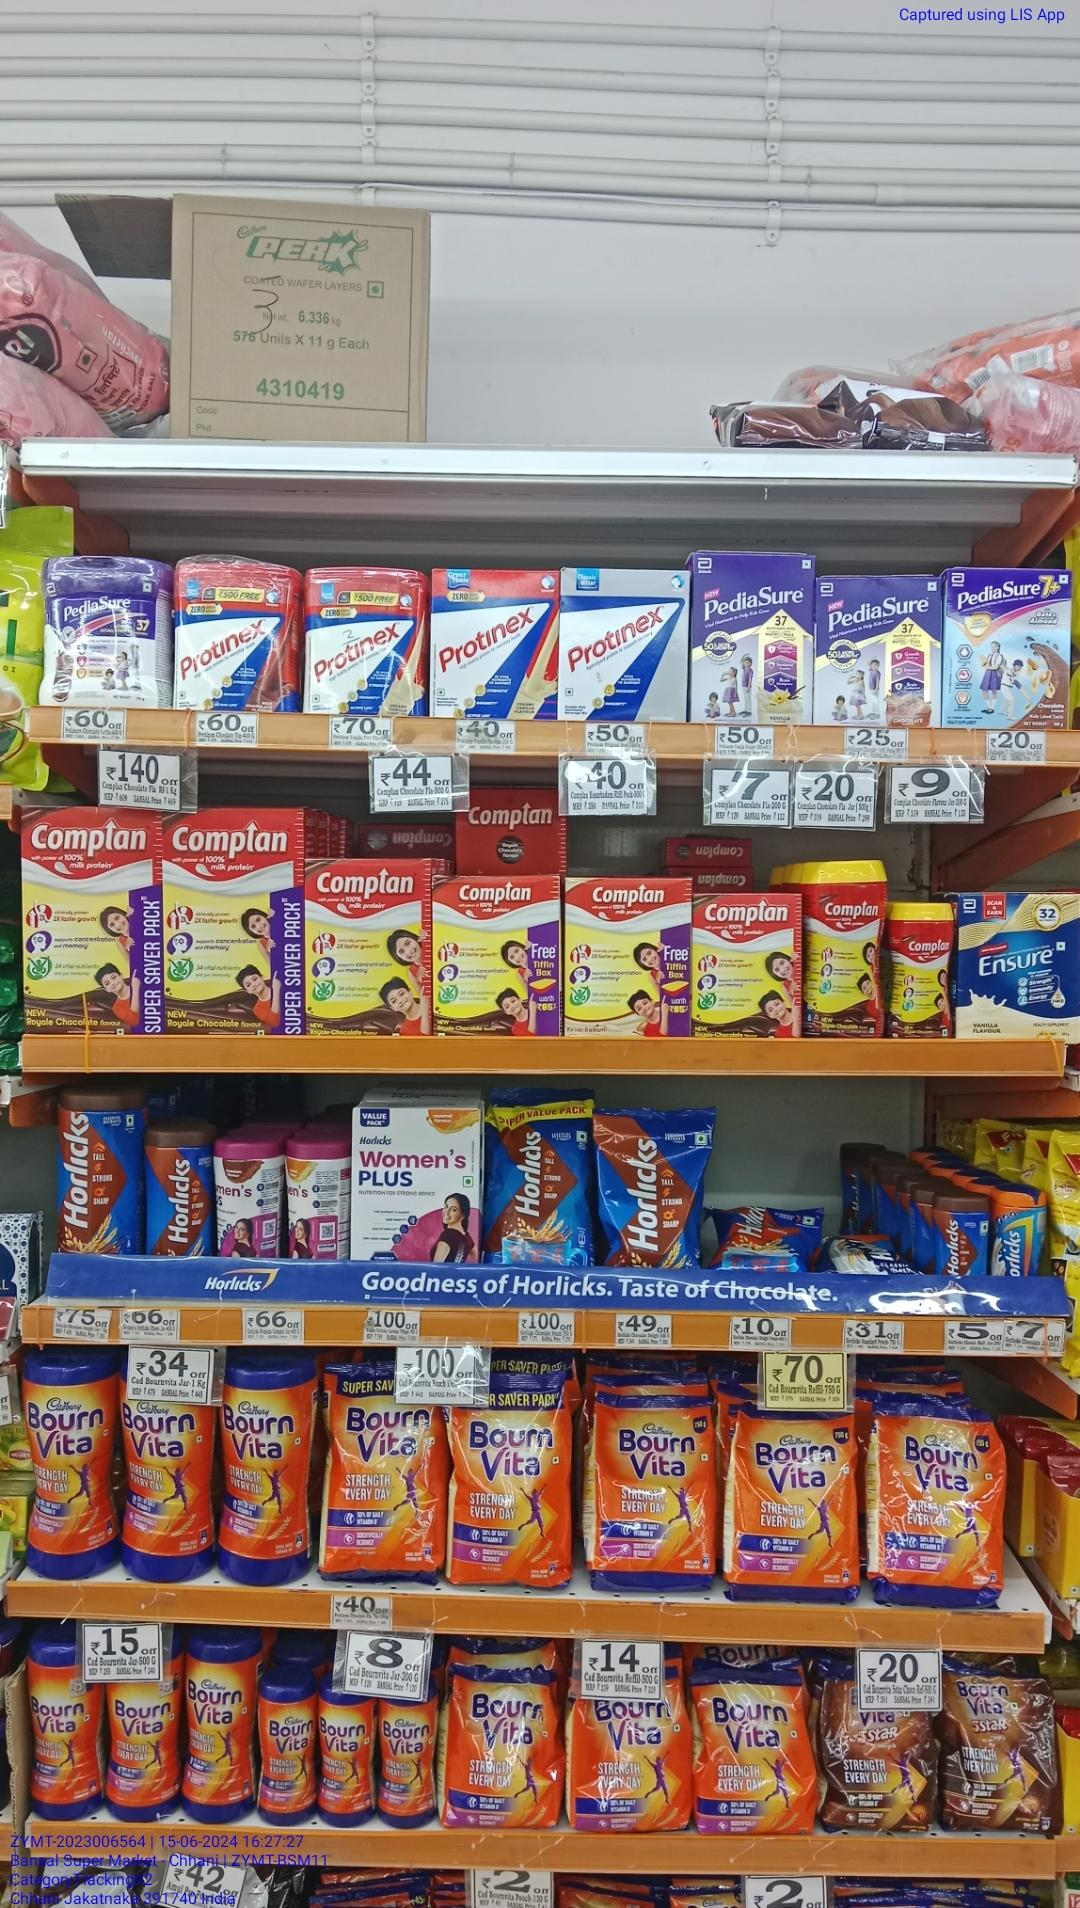BOURN_VITA_1_KG_JAR: (219, 1356, 312, 1587), (22, 1354, 114, 1579), (122, 1401, 212, 1576)
BOURN_VITA_1_KG_POUCH: (448, 1406, 571, 1590), (321, 1405, 442, 1587)
BOURN_VITA_200_G_JAR: (258, 1680, 313, 1825), (377, 1697, 436, 1828), (318, 1696, 374, 1827)
BOURN_VITA_500_G_JAR: (185, 1625, 254, 1825), (28, 1651, 106, 1816), (109, 1679, 178, 1824)
BOURN_VITA_500_G_POUCH: (699, 1673, 818, 1839), (442, 1663, 558, 1827), (569, 1698, 683, 1831)
BOURN_VITA_750_G_POUCH: (869, 1402, 1003, 1605), (725, 1407, 861, 1603), (591, 1390, 716, 1590)
BOURN_VITA_FIVE_STAR_MAGIC_500_G_POUCH: (946, 1666, 1064, 1839), (827, 1698, 931, 1831)
COMPLAN_CHOCOLATE_1_KG_PACK: (22, 809, 161, 1031), (165, 810, 303, 1031)
COMPLAN_CHOCOLATE_200_GMS_JAR: (891, 904, 953, 1040)
COMPLAN_CHOCOLATE_200_GMS_PACK: (696, 895, 801, 1038)
COMPLAN_CHOCOLATE_500_GMS_JAR: (806, 860, 886, 1039)
COMPLAN_CHOCOLATE_500_GMS_PACK: (307, 858, 430, 1035), (435, 877, 560, 1038)
COMPLAN_KESAR_BADAM_500_GMS_PACK: (565, 877, 689, 1038)
ENSURE_VANILLA_400_G_PACK: (961, 894, 1080, 1042)
HORLICK_CHOCOLATE_1_KG_JAR: (54, 1092, 143, 1257)
HORLICK_CHOCOLATE_200_G_JAR: (933, 1191, 986, 1272)
HORLICK_CHOCOLATE_500_G_JAR: (145, 1128, 215, 1255)
HORLICK_CHOCOLATE_750_G_POUCH: (485, 1096, 587, 1261)
HORLICK_CLASSIC_MALT_200_G_JAR: (991, 1187, 1047, 1275)
PEDIASURE_7_PLUS_CHOCOLATE_400_G_PACK: (945, 570, 1067, 729)
PEDIASURE_CHOCOLATE_500_G_PACK: (817, 578, 940, 727)
PEDIASURE_VANILLA_500_G_PACK: (693, 553, 814, 725)
PROTINEX_CHOCOLATE_400_G_JAR: (172, 565, 300, 712)
PROTINEX_VANILLA_400_G_JAR: (304, 569, 425, 718)
